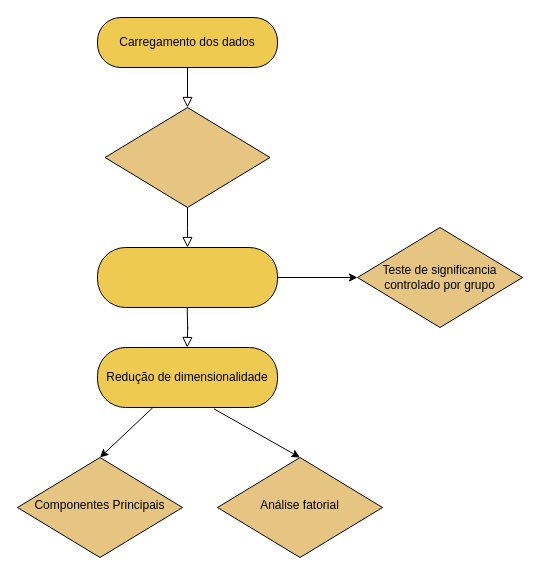
Image size: 540x575. Some labels were removed from this diagram. Here are the shapes that lost their labels. From the top down, the centre of each, then its label:
pixel 187 157: Limpeza e Divisão em treino e teste
pixel 187 277: Analise e interpretação de variáveis
